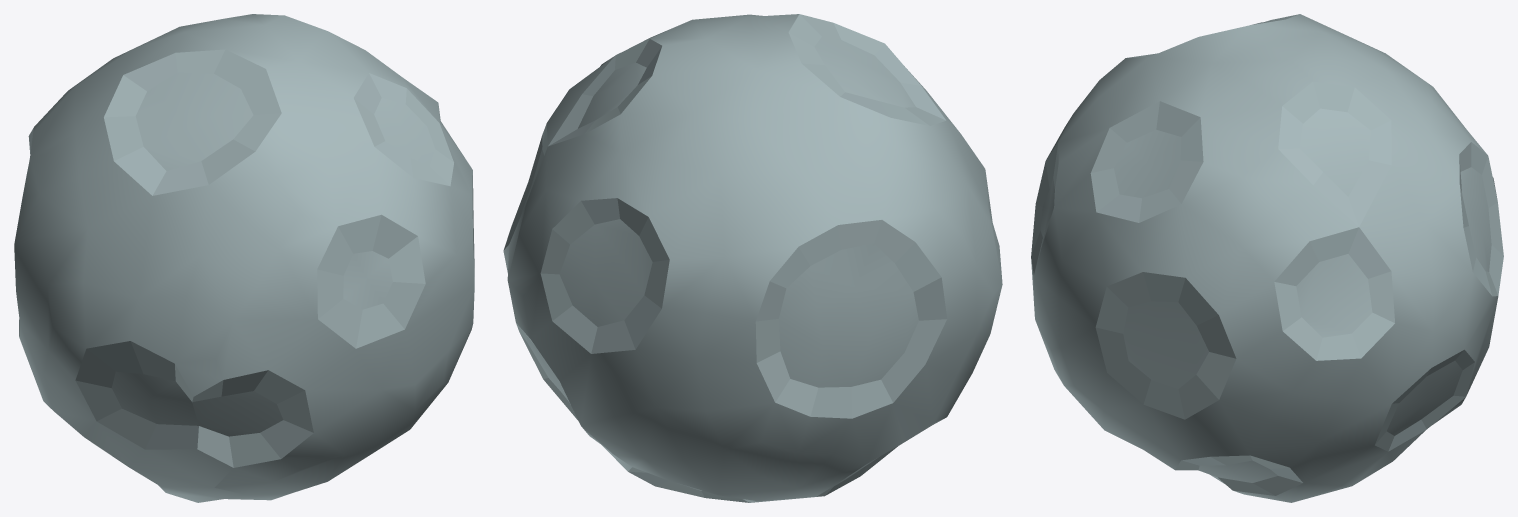
File: SM_Moon.fbx
The picture shows the model from 3 angles, left to right: view 1: azimuth 30°, elevation 25°; view 2: azimuth 150°, elevation 25°; view 3: azimuth 270°, elevation 25°; orthographic projection. The views are drawn at different scales.
Visible parts, largest first — view 1: pPlatonic17; view 2: pPlatonic17; view 3: pPlatonic17.
Boxes of the visible parts, x1,y1,x2,y2 form: pPlatonic17: [14, 14, 474, 502]; pPlatonic17: [503, 14, 1002, 502]; pPlatonic17: [1031, 14, 1503, 502].
Size of the model in its own units: 3711669 by 3716640 by 3607498.
